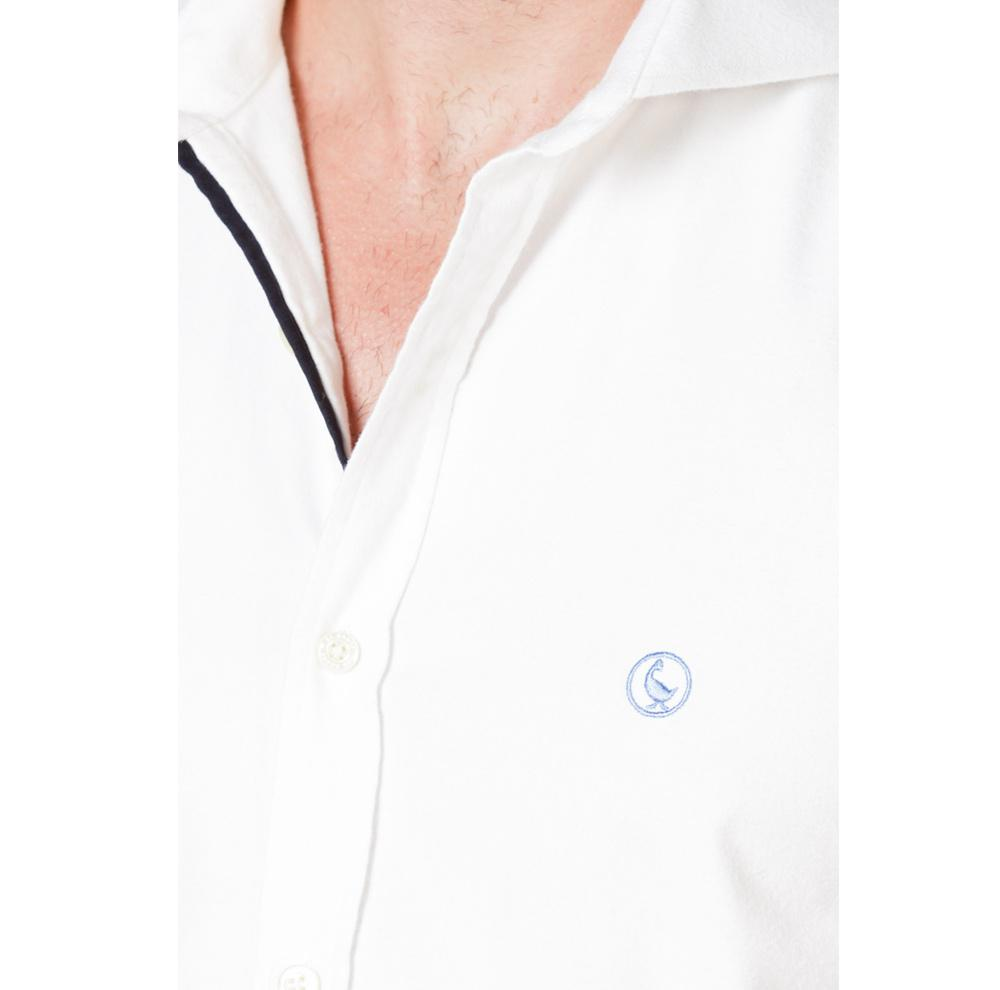teeshirt: (148, 1, 853, 949)
